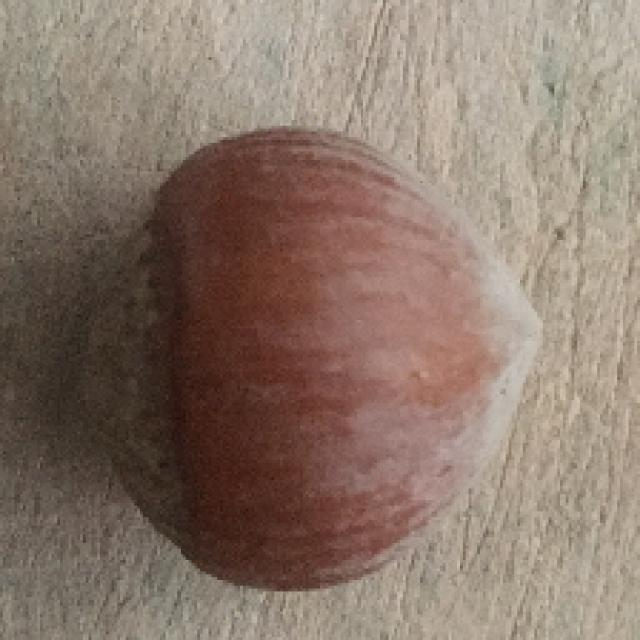qualityHazelnut: (79, 124, 540, 586)
